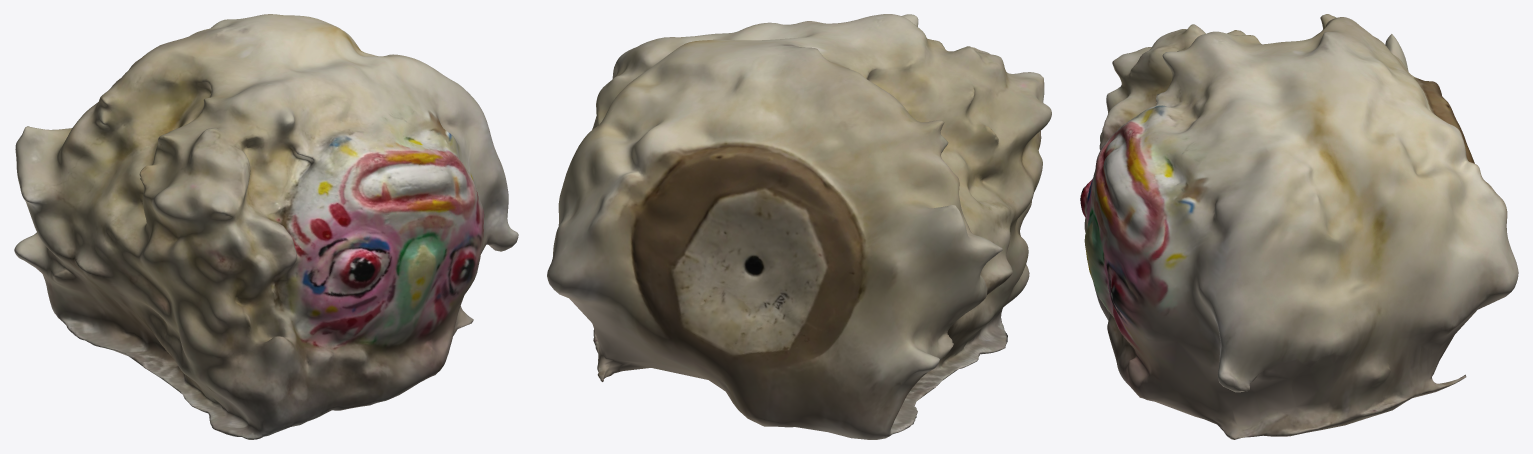
3 renders of one model, left to right at view 1: azimuth 30°, elevation 25°; view 2: azimuth 150°, elevation 25°; view 3: azimuth 270°, elevation 25°, orthographic. The views are drawn at different scales.
Size of the model in its own units: 0.7088 by 0.4984 by 0.6231.
Materials: 1 (1 with a texture image).
